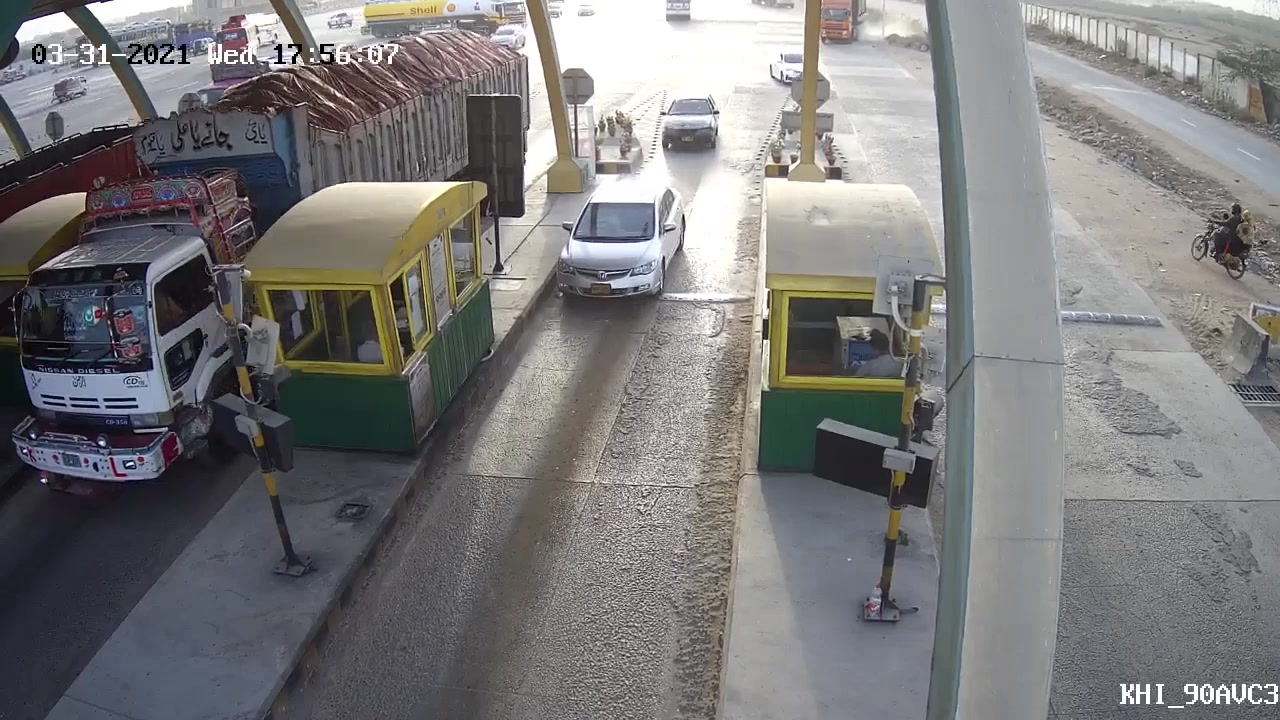F1: (549, 178, 689, 304)
